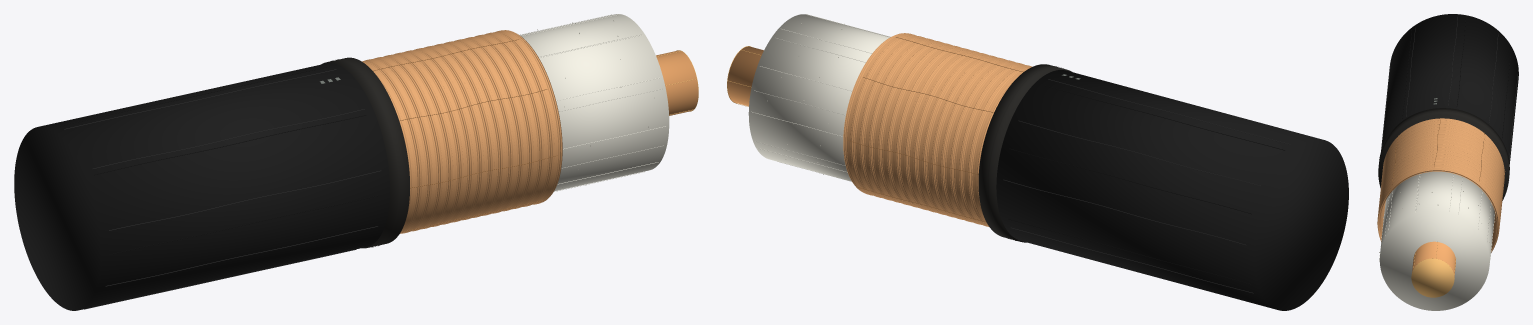
File: rf-lcf114-macro.glb
3 renders of one model, left to right at view 1: azimuth 30°, elevation 25°; view 2: azimuth 150°, elevation 25°; view 3: azimuth 270°, elevation 25°, orthographic. The views are drawn at different scales.
Parts seen in each view (by area): view 1: macro hardline jacket body, annular corrugated solid shield, macro foam dielectric exposed core, hardline jacket cut wall, polished solid center conductor, rounded jacket cut lip; view 2: macro hardline jacket body, annular corrugated solid shield, macro foam dielectric exposed core, hardline jacket cut wall, polished solid center conductor; view 3: macro hardline jacket body, macro foam dielectric exposed core, annular corrugated solid shield, hardline jacket cut wall, polished conductor cut face glow, polished solid center conductor, rounded jacket cut lip.
Boxes of the visible parts, x1,y1,x2,y2 form: macro hardline jacket body: (14,63,389,310); annular corrugated solid shield: (362,30,562,233); macro foam dielectric exposed core: (520,14,669,191); hardline jacket cut wall: (321,57,409,248); polished solid center conductor: (656,50,698,115); rounded jacket cut lip: (331,59,400,247); macro hardline jacket body: (996,70,1348,310); annular corrugated solid shield: (843,33,1032,226); macro foam dielectric exposed core: (748,14,890,181); hardline jacket cut wall: (978,64,1071,242); polished solid center conductor: (727,46,763,106); macro hardline jacket body: (1381,14,1518,163); macro foam dielectric exposed core: (1379,171,1494,310); annular corrugated solid shield: (1377,118,1504,252); hardline jacket cut wall: (1378,108,1509,200); polished conductor cut face glow: (1411,258,1454,297); polished solid center conductor: (1412,241,1455,276); rounded jacket cut lip: (1383,110,1509,168).
Size of the model in its own units: 27.25 by 7.33 by 7.88.
